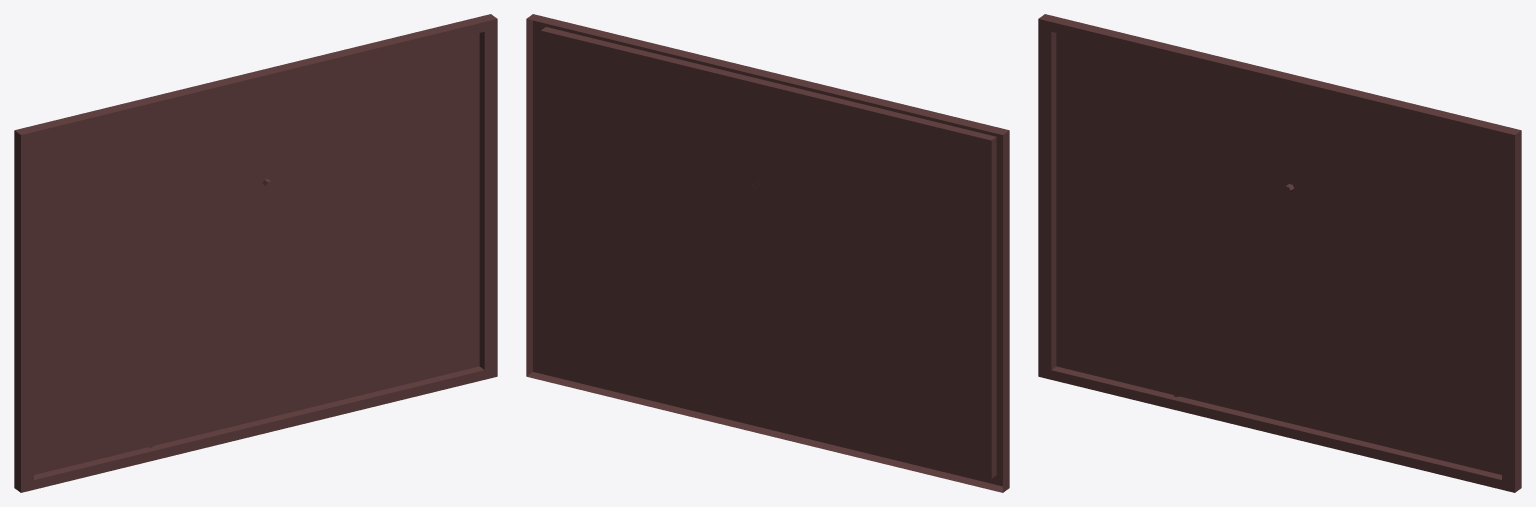
Rendered from Avisos.fbx.
3 views of the same model, side by side, from view 1: azimuth 30°, elevation 25°; view 2: azimuth 150°, elevation 25°; view 3: azimuth 330°, elevation 25° (orthographic).
Visible parts, largest first — view 1: avisos; view 2: avisos; view 3: avisos.
Boxes of the visible parts, bbox=[...] form: avisos: bbox=[14, 14, 497, 492]; avisos: bbox=[526, 14, 1009, 492]; avisos: bbox=[1038, 14, 1521, 492].
Bounding box in the file's own units: 184 × 132 × 4.45.
